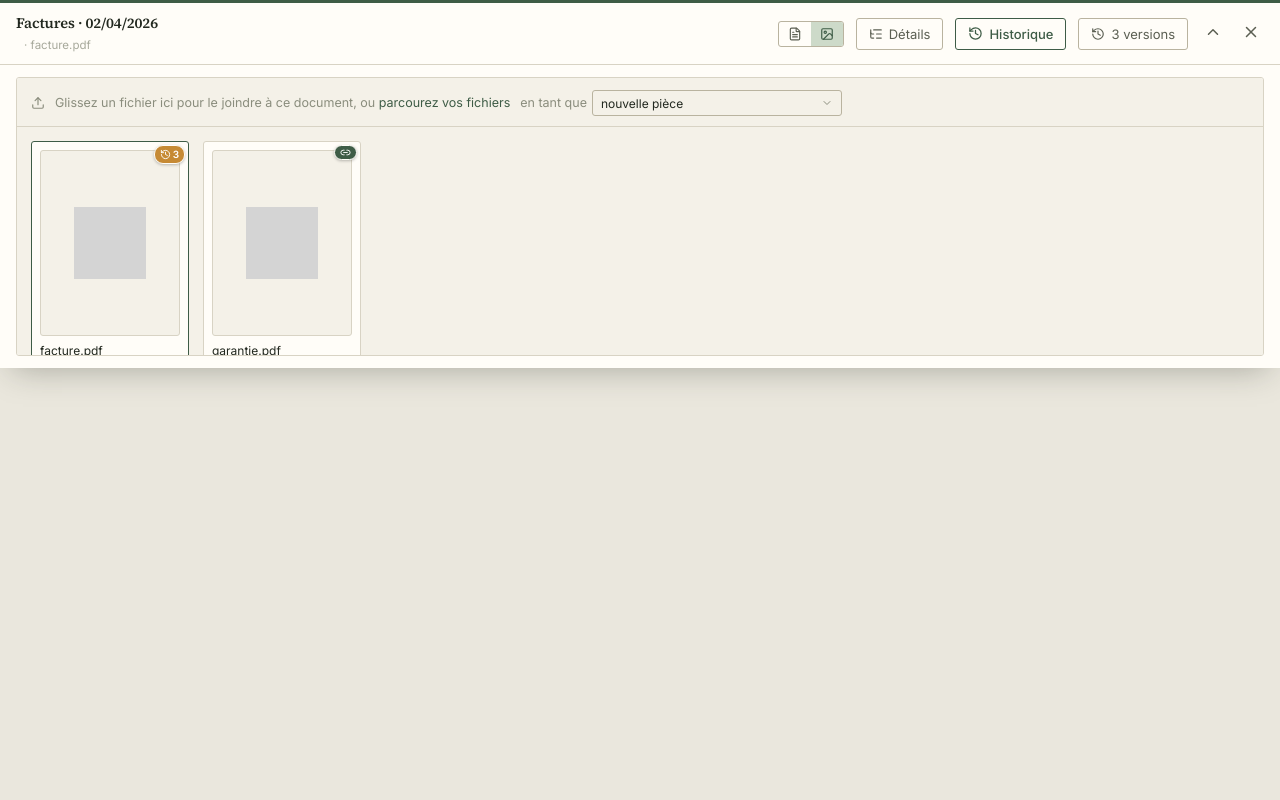
Scenario: les pastilles d'une vignette › annonce qu'un document a été redéposé, et ouvre ses dépôts
Click the button named "3 dépôts pour ce document". click: (169, 154)
box: [154,145,185,164]
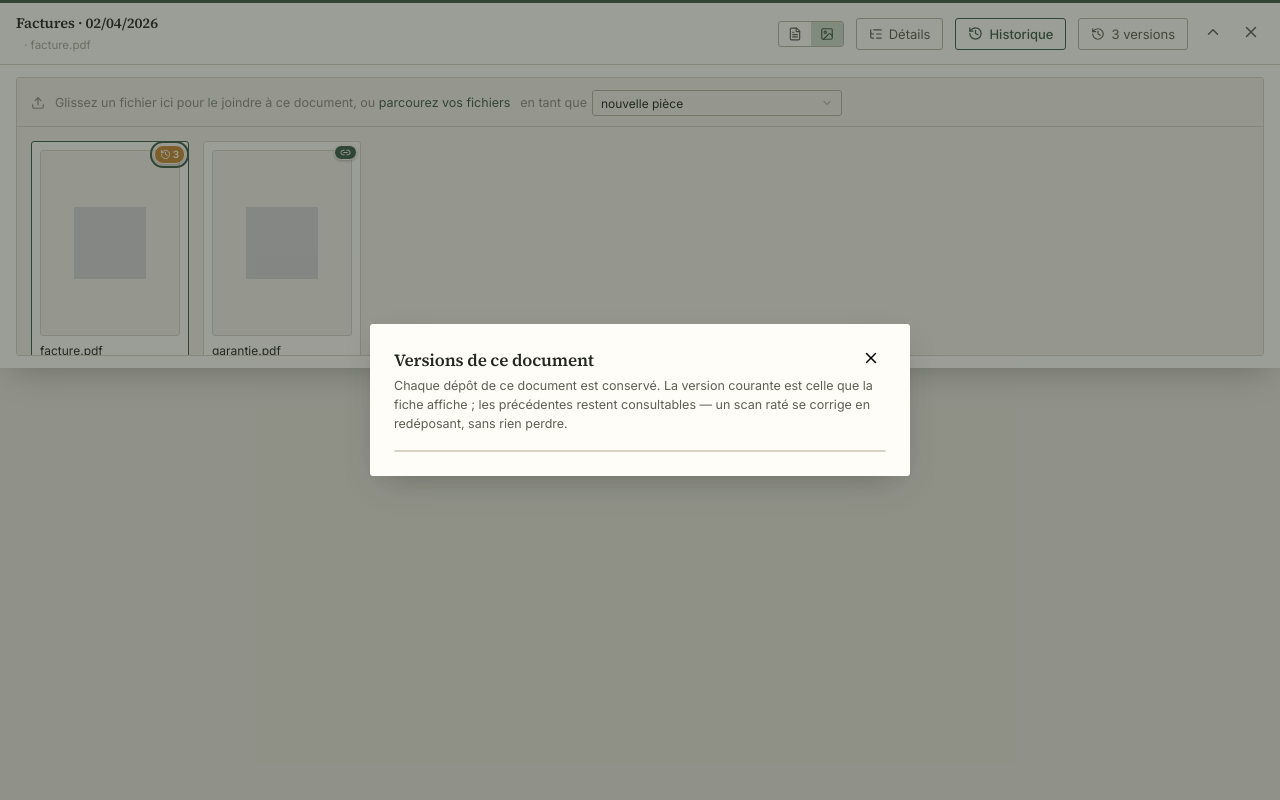
expect the heading "Versions de ce document" is shown: met, box [394,348,594,374]
